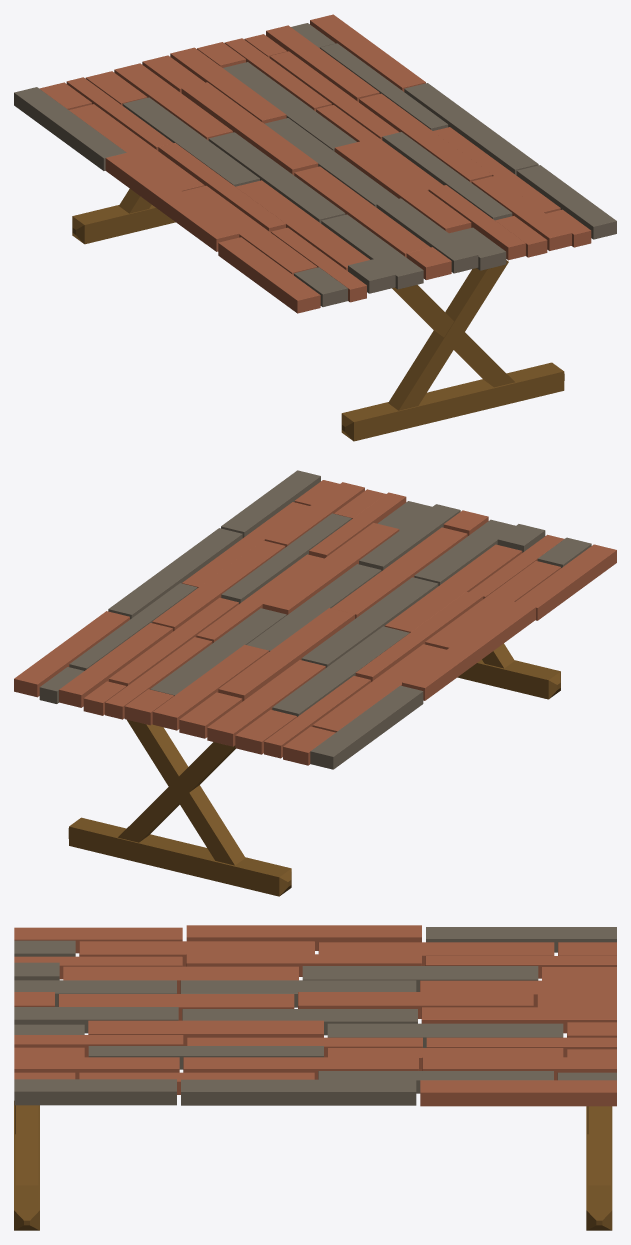
Rendered from table_rectangle.fbx.
The picture shows the model from 3 angles, top to bottom: view 1: azimuth 30°, elevation 25°; view 2: azimuth 150°, elevation 25°; view 3: azimuth 270°, elevation 25°; orthographic projection. The views are drawn at different scales.
Visible parts, largest first — view 1: Plancher, Cube.001, Cube.003, Cube.004, Cube.006; view 2: Plancher, Cube.006, Cube.005, Cube.002, Cube.001; view 3: Plancher, Cube.004, Cube.002, Cube.006, Cube.001.
Boxes of the visible parts, x1,y1,x2,y2 form: Plancher: [14, 14, 616, 313]; Cube.001: [341, 362, 564, 441]; Cube.003: [388, 260, 508, 410]; Cube.004: [392, 285, 514, 387]; Cube.006: [72, 205, 175, 244]; Plancher: [14, 470, 616, 769]; Cube.006: [68, 817, 291, 896]; Cube.005: [127, 719, 245, 865]; Cube.002: [118, 742, 235, 842]; Cube.001: [457, 659, 560, 699]; Plancher: [14, 925, 616, 1106]; Cube.004: [16, 1105, 38, 1185]; Cube.002: [588, 1106, 610, 1185]; Cube.006: [586, 1106, 612, 1230]; Cube.001: [14, 1101, 39, 1230].
Bounding box in the file's own units: 310 × 146 × 476.
